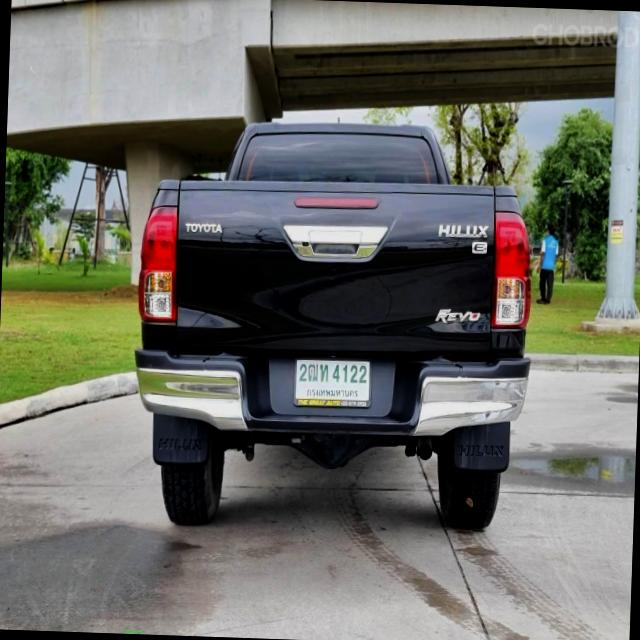license_plate: (290, 350, 376, 412)
